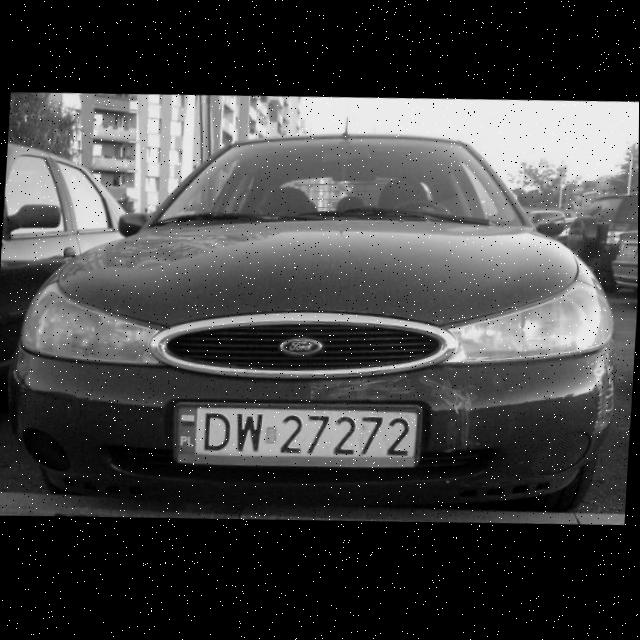license-plates: (175, 407, 421, 469)
